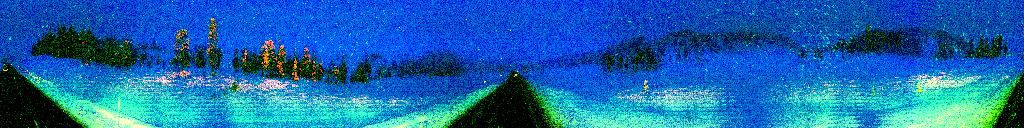pole: (115, 87, 122, 128)
